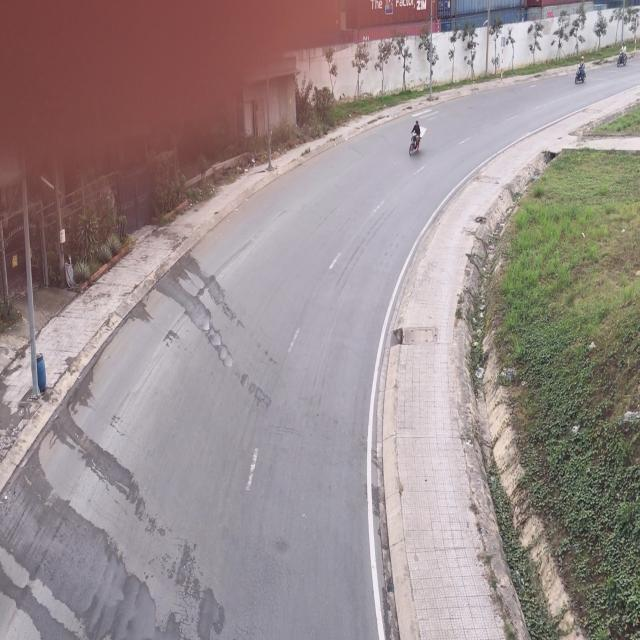motorbike: (410, 116, 424, 159)
